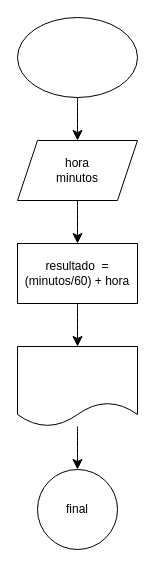
Image size: 155x567. Some labels were removed from this diagram. Here are the shapes that lost their labels. From the top down, the centre of each, then its label:
At [77,57]: "inicio".
At [77,386]: "resultado".
